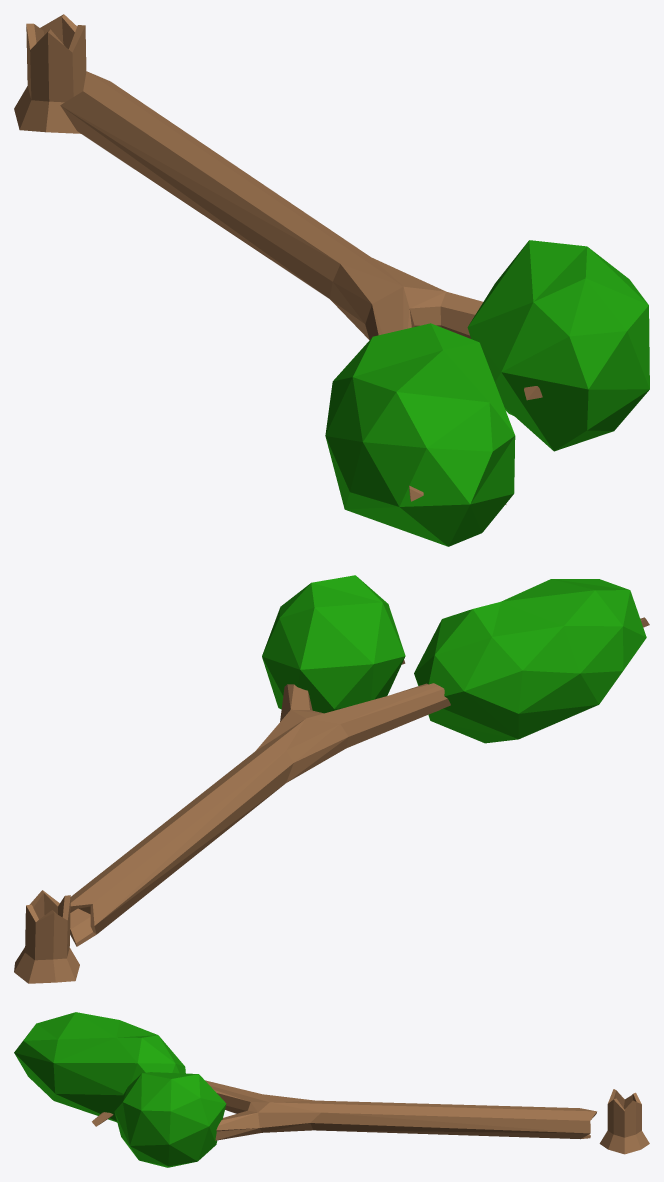
The model's file is Tree_2 Broken.fbx.
3 views of the same model, one above another, from view 1: azimuth 30°, elevation 25°; view 2: azimuth 150°, elevation 25°; view 3: azimuth 270°, elevation 25° (orthographic). The views are drawn at different scales.
Visible parts, largest first — view 1: Tree2Broken_mesh; view 2: Tree2Broken_mesh; view 3: Tree2Broken_mesh.
Boxes of the visible parts, x1,y1,x2,y2 form: Tree2Broken_mesh: (14, 14, 649, 546); Tree2Broken_mesh: (14, 575, 649, 983); Tree2Broken_mesh: (14, 1012, 649, 1167).
Bounding box in the file's own units: 400 × 188 × 1136.
